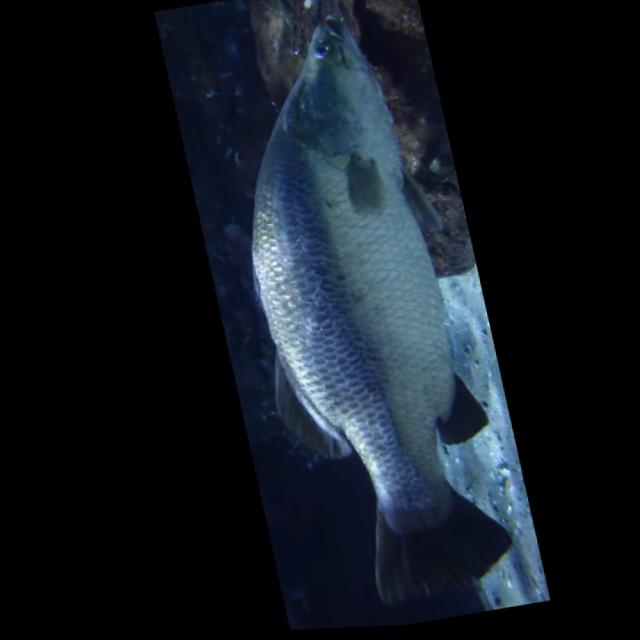Seabass: (185, 0, 528, 622)
